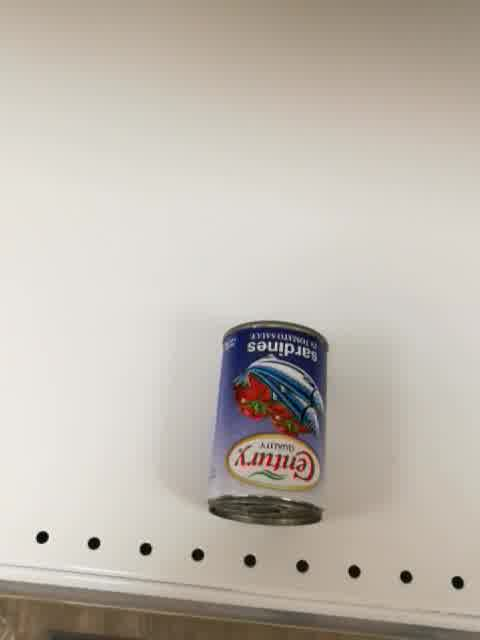sardine: (207, 317, 330, 529)
